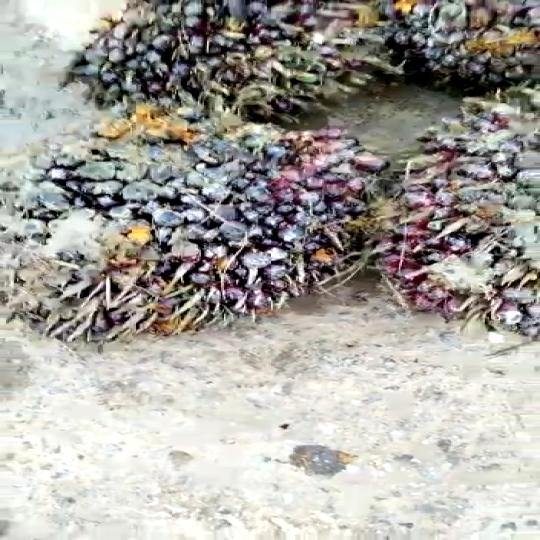kurang masak: (0, 110, 377, 338), (377, 82, 540, 335), (50, 4, 379, 115)
